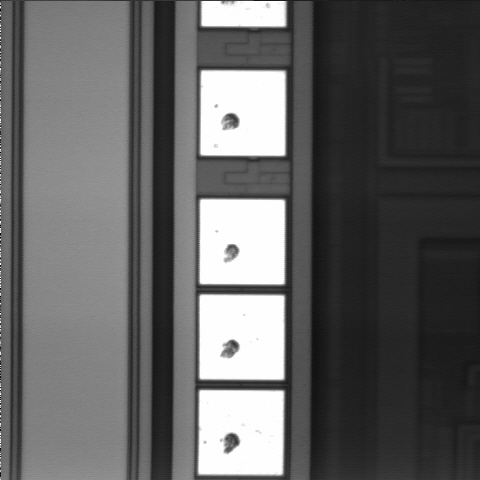pad: (198, 390, 284, 475), (200, 71, 285, 156), (200, 199, 285, 284), (200, 295, 284, 380)
